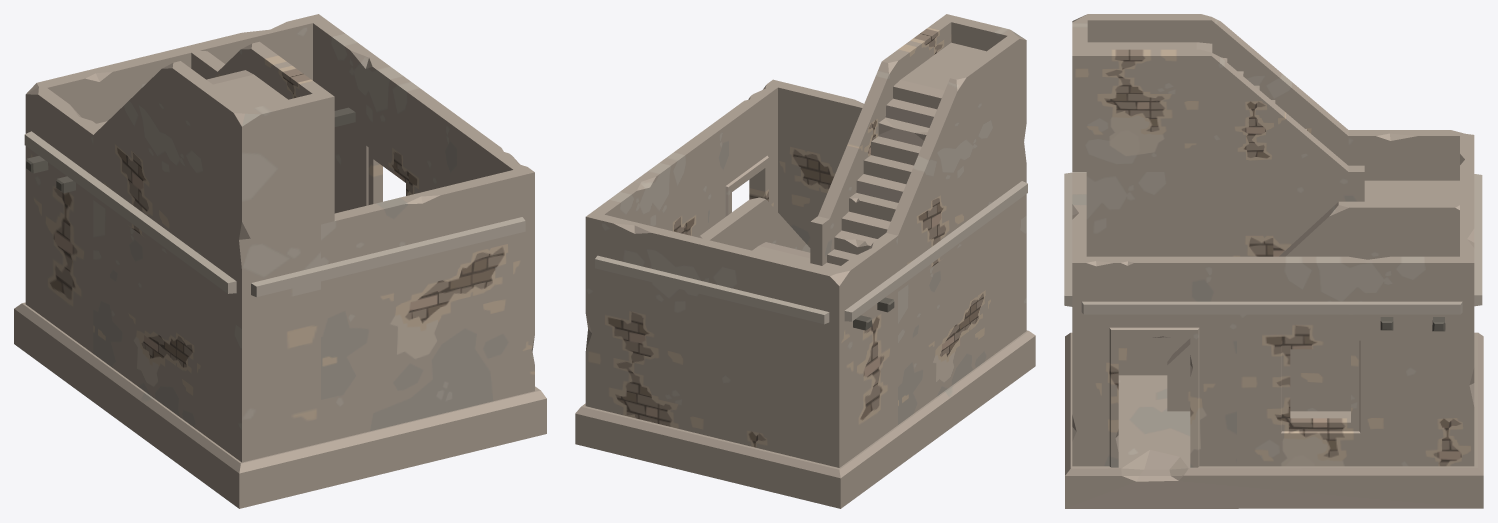
The model's file is SM_Bld_Village_House_Stairs_01.glb.
The picture shows the model from 3 angles, left to right: view 1: azimuth 30°, elevation 25°; view 2: azimuth 150°, elevation 25°; view 3: azimuth 270°, elevation 25°; orthographic projection. The views are drawn at different scales.
Visible parts, largest first — view 1: SM_Bld_Village_House_Stairs_01; view 2: SM_Bld_Village_House_Stairs_01; view 3: SM_Bld_Village_House_Stairs_01.
Part boxes in pixels (left/top/right/bottom): SM_Bld_Village_House_Stairs_01: left=14, top=14, right=546, bottom=508; SM_Bld_Village_House_Stairs_01: left=575, top=14, right=1035, bottom=508; SM_Bld_Village_House_Stairs_01: left=1064, top=14, right=1483, bottom=508.
Bounding box in the file's own units: 5.92 × 6.77 × 7.18.
Materials: 1 (1 with a texture image).
